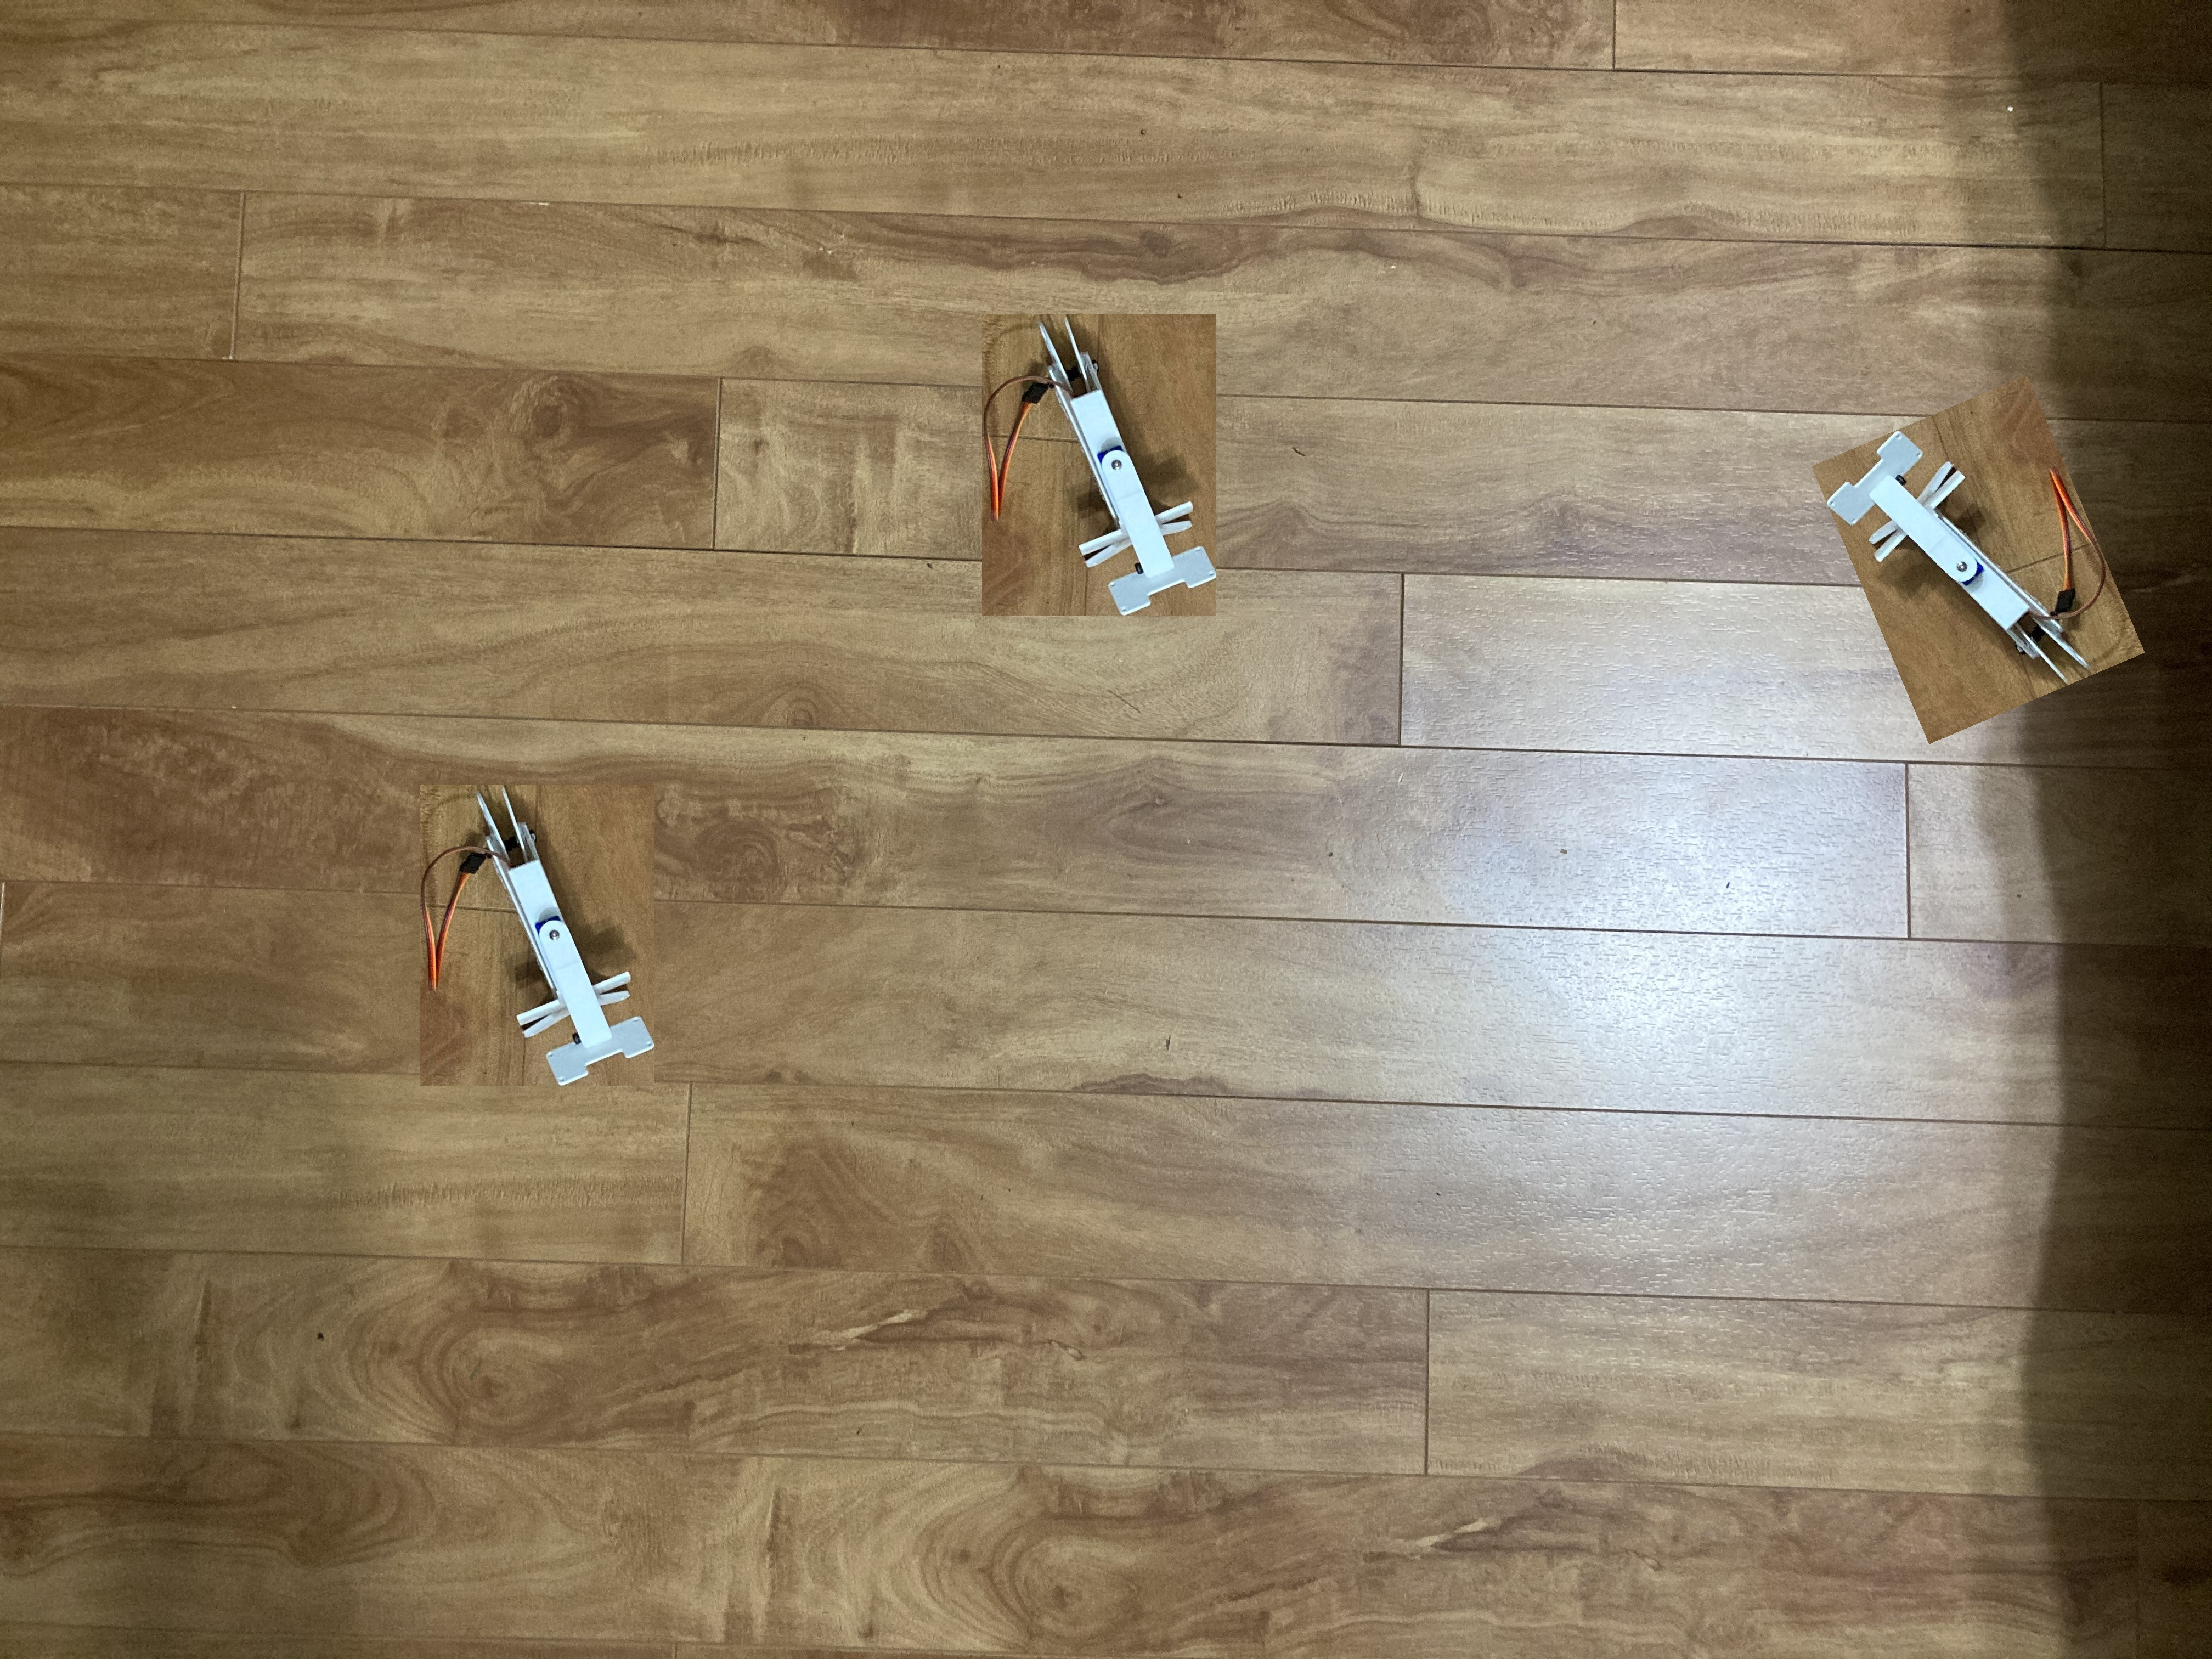robot: (1808, 418, 2137, 711), (1019, 289, 1223, 674), (444, 779, 671, 1098)
